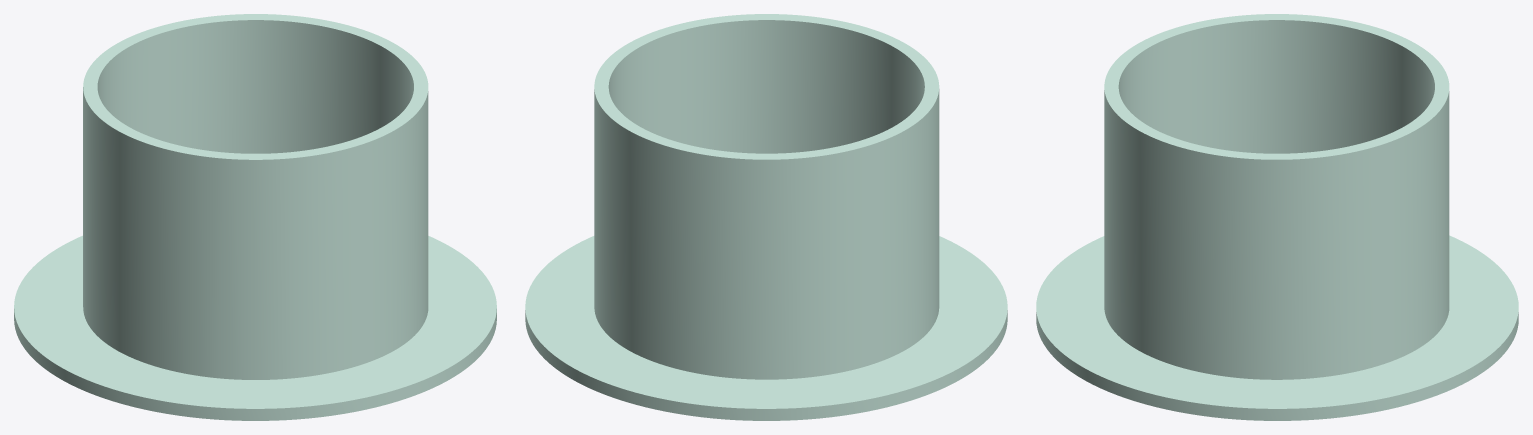
3 views of the same model, side by side, from view 1: azimuth 30°, elevation 25°; view 2: azimuth 150°, elevation 25°; view 3: azimuth 270°, elevation 25° (orthographic).
Visible parts, largest first — view 1: Renderer Node; view 2: Renderer Node; view 3: Renderer Node.
Boxes of the visible parts, x1,y1,x2,y2 form: Renderer Node: (14,14,496,420); Renderer Node: (525,14,1007,420); Renderer Node: (1036,14,1518,420).
Bounding box in the file's own units: 1.41 × 0.75 × 1.41.
